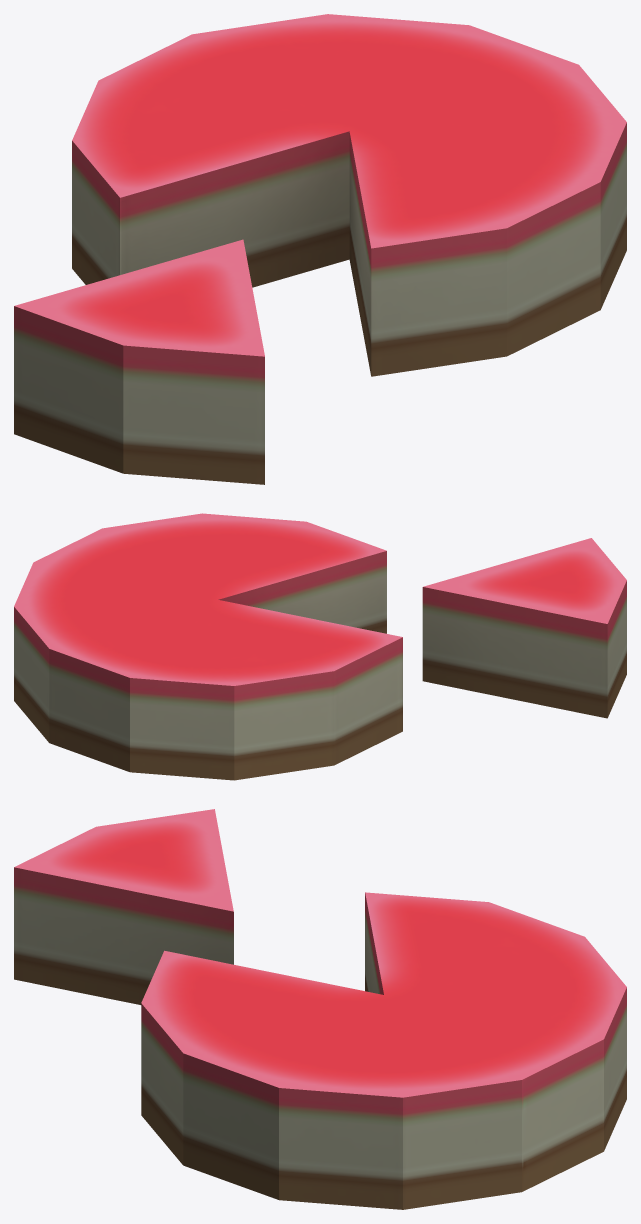
Rendered from cheeseCake.fbx.
3 views of the same model, one above another, from view 1: azimuth 30°, elevation 25°; view 2: azimuth 150°, elevation 25°; view 3: azimuth 270°, elevation 25° (orthographic). The views are drawn at different scales.
Parts seen in each view (by area): view 1: cheeseCake; view 2: cheeseCake; view 3: cheeseCake.
Part boxes in pixels (x1,y1,x2,y2): cheeseCake: (14,14,626,484); cheeseCake: (14,513,626,780); cheeseCake: (14,809,626,1209).
Bounding box in the file's own units: 10.54 × 1.94 × 9.5.
